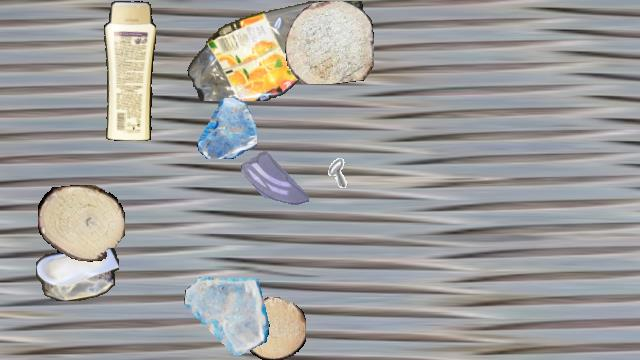glass: (183, 273, 269, 359), (241, 144, 309, 212), (196, 98, 256, 158)
metal: (303, 153, 349, 199)
plastic: (186, 1, 368, 101), (101, 1, 155, 141), (36, 240, 118, 300)
wood: (285, 1, 373, 83), (38, 185, 124, 261), (244, 297, 306, 359)
